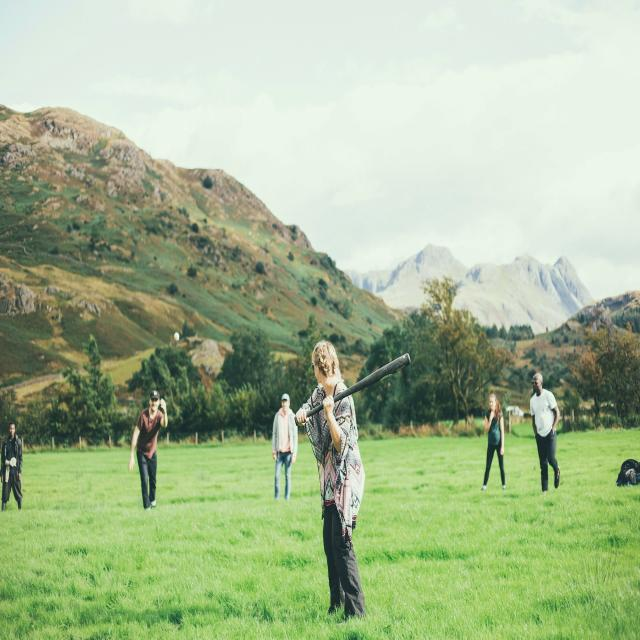adult: (296, 341, 367, 618), (129, 390, 168, 510), (531, 374, 561, 492), (272, 392, 298, 498), (482, 394, 504, 490), (0, 421, 23, 511)
